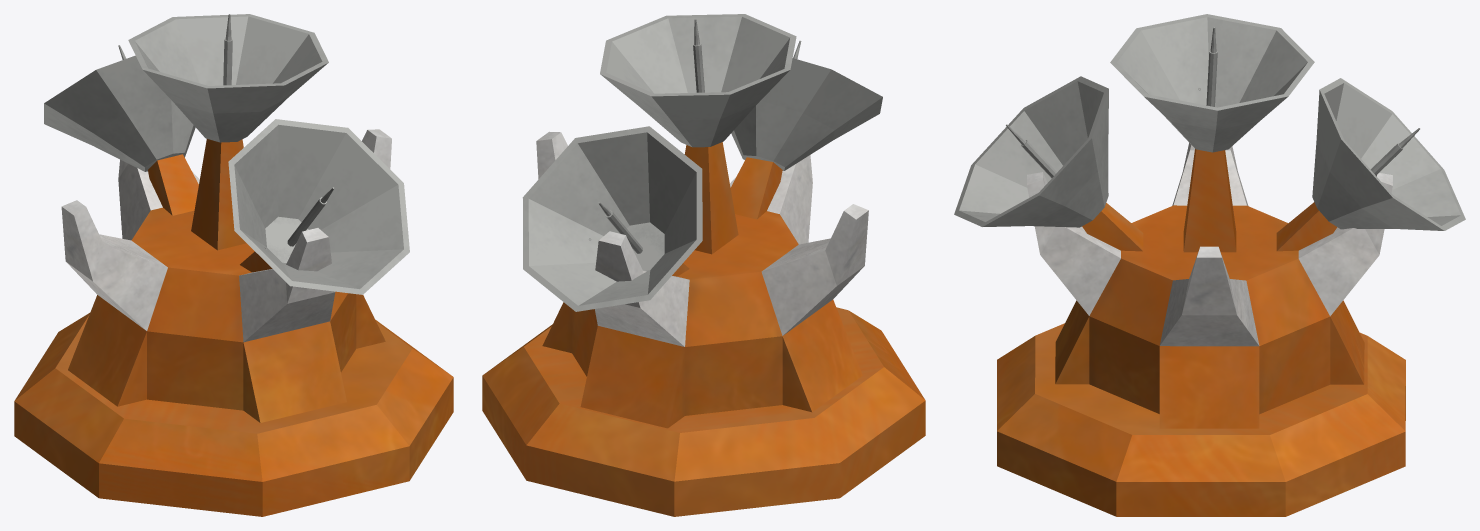
Rendered from TorreRadar3.fbx.
The picture shows the model from 3 angles, left to right: view 1: azimuth 30°, elevation 25°; view 2: azimuth 150°, elevation 25°; view 3: azimuth 270°, elevation 25°; orthographic projection.
Parts seen in each view (by area): view 1: Base, Torre; view 2: Base, Torre; view 3: Base, Torre.
Part boxes in pixels (bbox=[...]): Base: bbox=[14, 129, 453, 516]; Torre: bbox=[44, 14, 409, 294]; Base: bbox=[482, 131, 925, 516]; Torre: bbox=[522, 14, 882, 311]; Base: bbox=[997, 143, 1405, 516]; Torre: bbox=[954, 14, 1465, 252].
Size of the model in its own units: 337 by 368 by 422.
